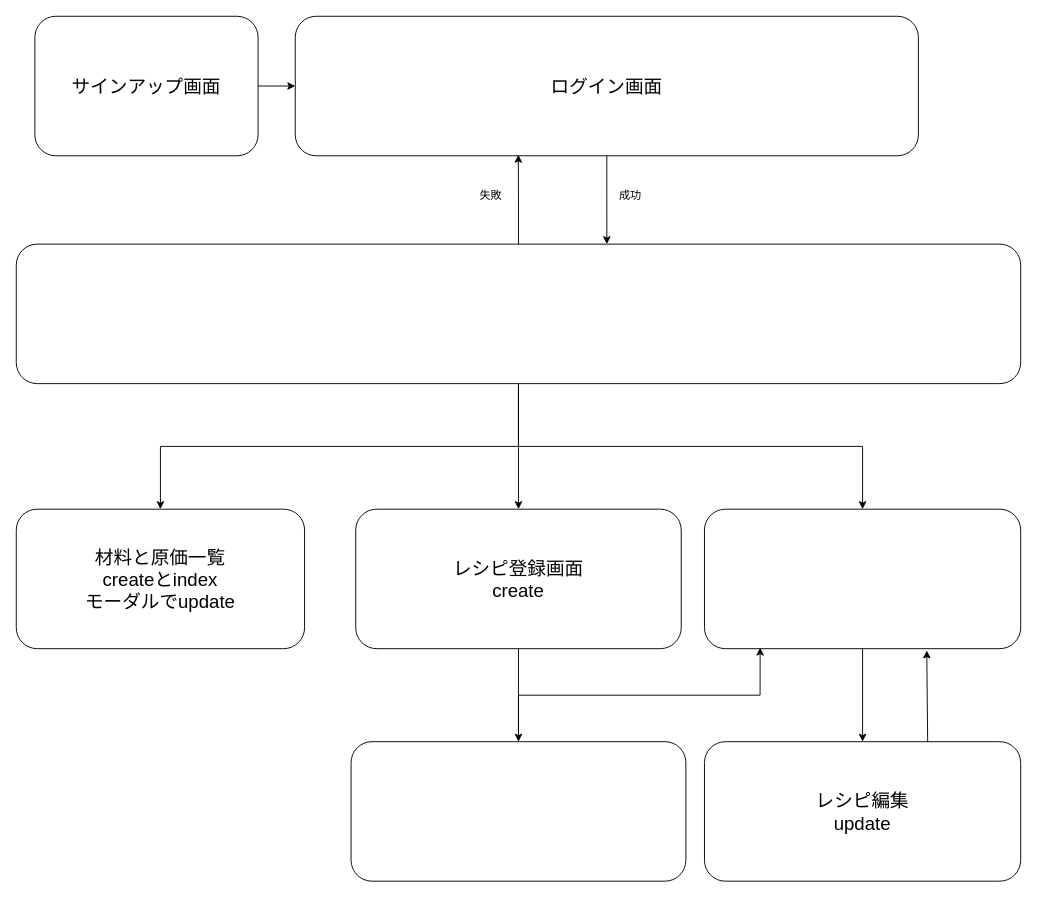
Some shapes in this 1037 by 897 pixel diagram are drawn without their labels. Here are the shapes that lost their labels. From the top down, the centre of each, then its label:
At (x=518, y=313): "レシピ一覧(TOPでroot_pathにしない) apiはapi/v1/products index".
At (x=862, y=578): "レシピ確定詳細 show".
At (x=518, y=811): "レシピ登録確認画面 show(confirm)".
